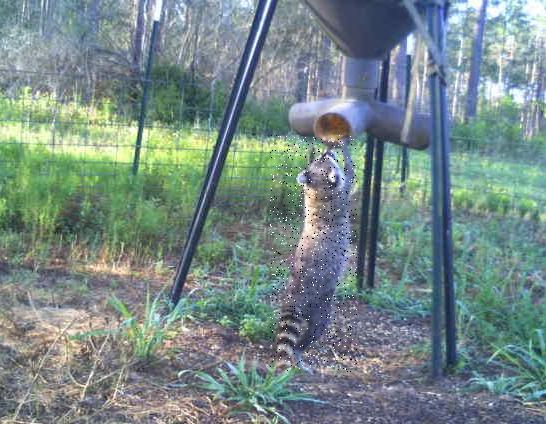Raccoon: (270, 136, 357, 373)
